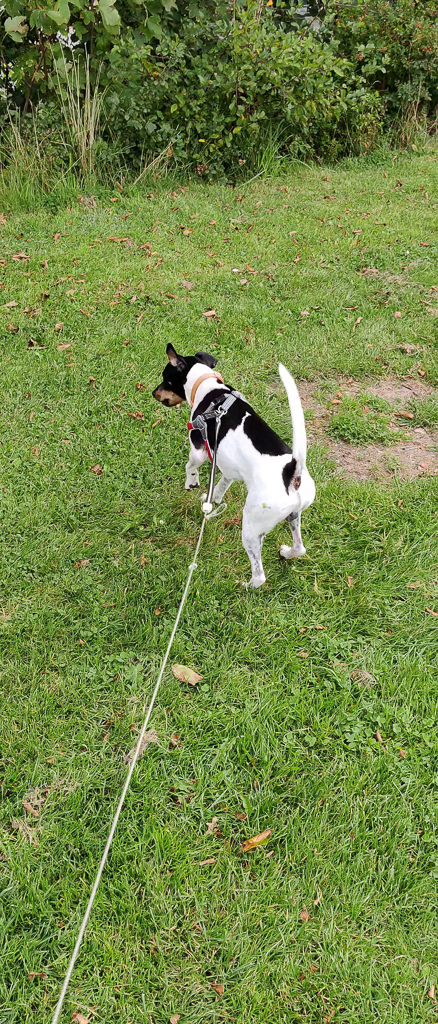Dog: (144, 333, 330, 608)
